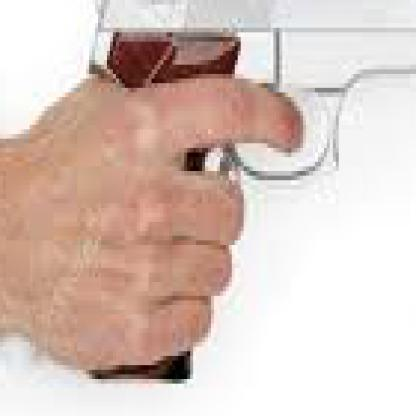gun: (53, 0, 414, 415)
